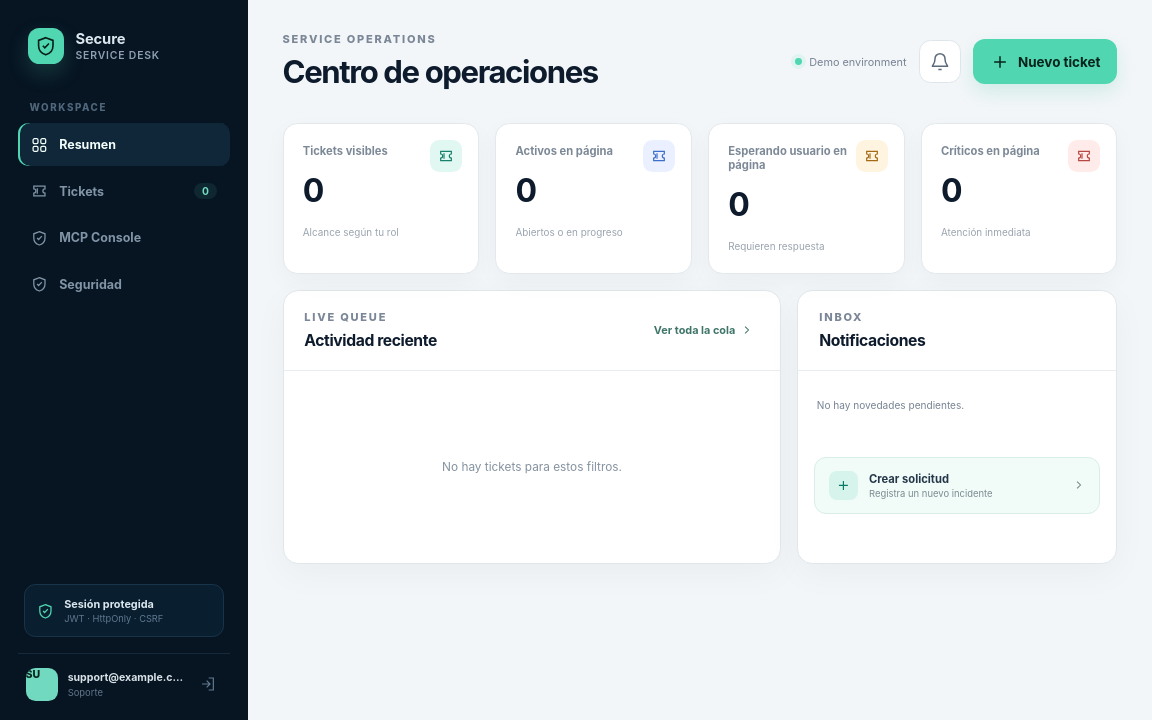
Workspace › creates a ticket and opens only its authorized detail response
Expected: the text "No hay tickets para estos filtros." is shown, left=442, top=460, right=622, bottom=474
Click the button "Nuevo ticket". click: point(1045, 62)
box: left=973, top=39, right=1118, bottom=84
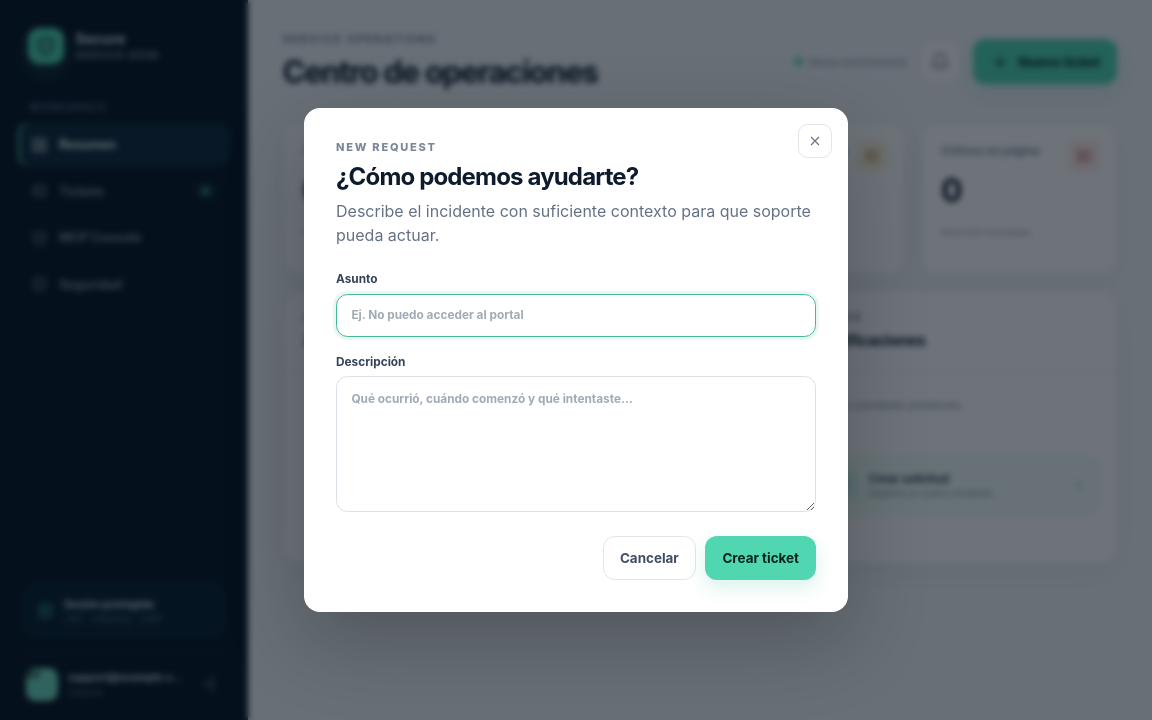
Type "Demo ticket created" into the field labelled "Asunto". click: point(576, 315)
box: left=336, top=294, right=816, bottom=336
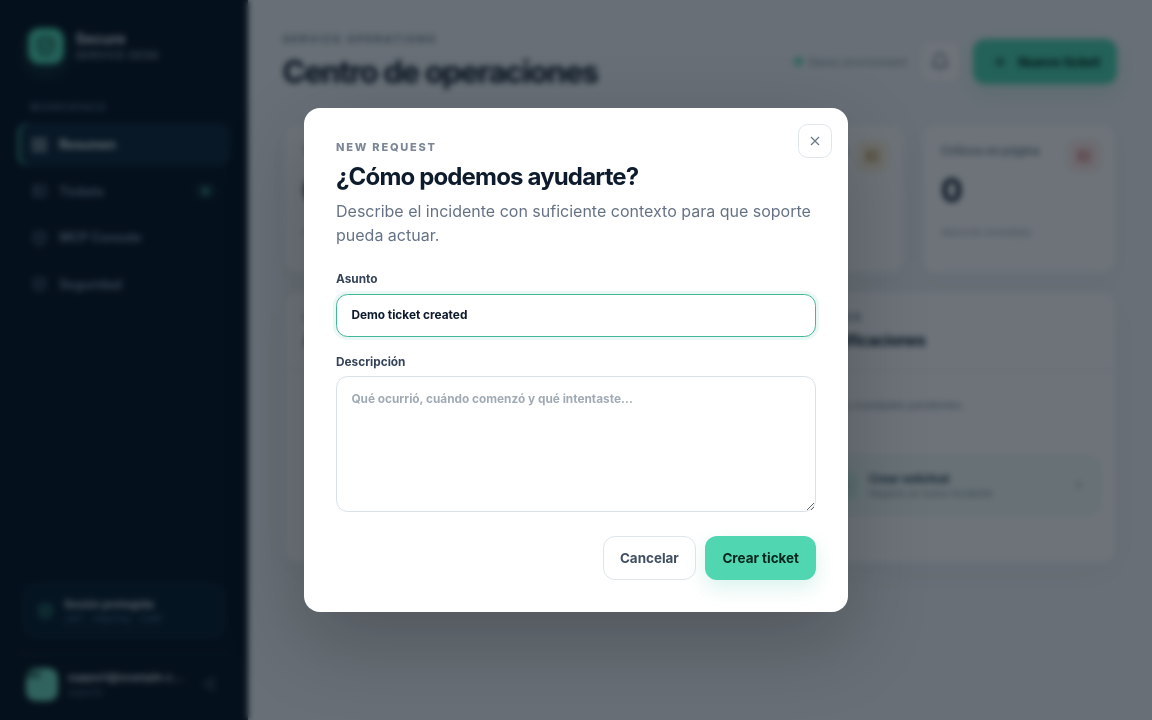
Type "Enough context to validate the visual service desk workflow." into the text box labelled "Descripción". click: point(576, 444)
box: left=336, top=376, right=816, bottom=512
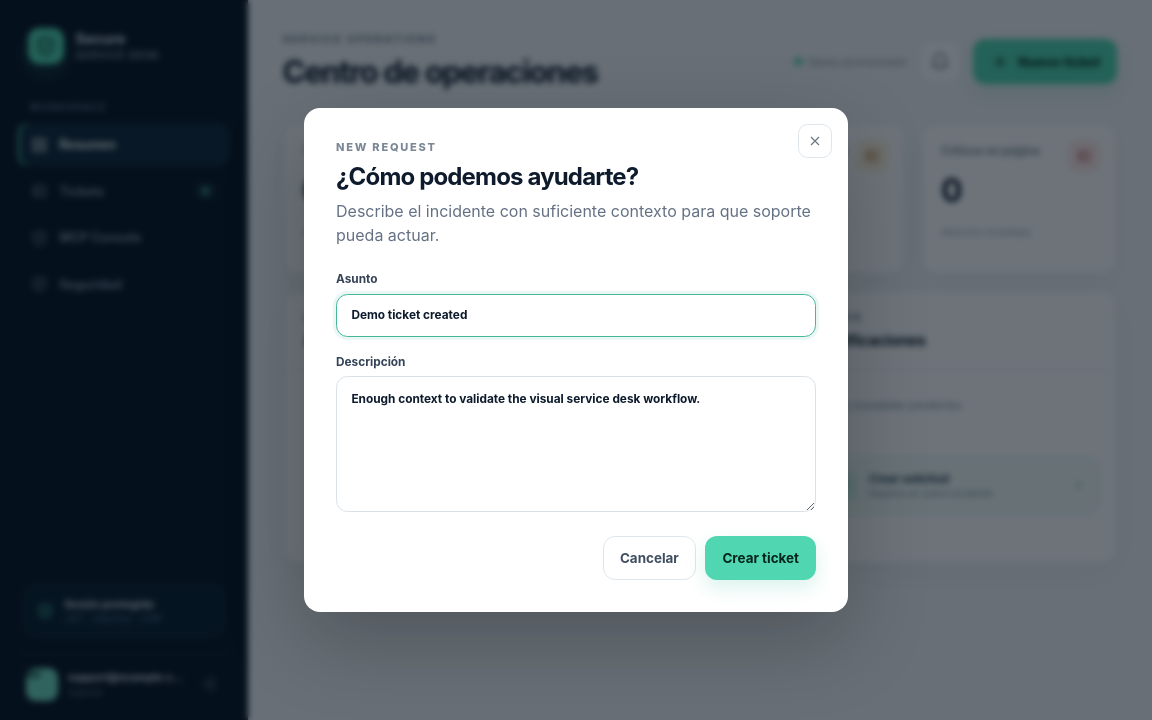
Click the button "Crear ticket". click: point(761, 558)
box: left=705, top=536, right=816, bottom=580
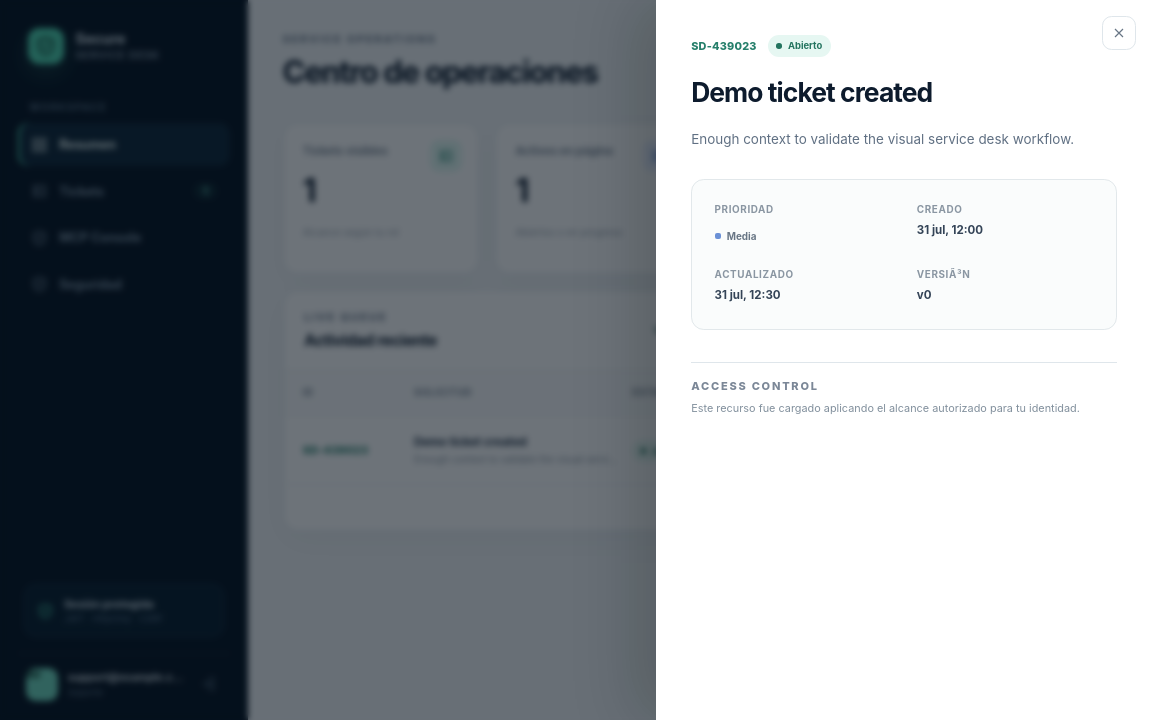
Result: the heading "Demo ticket created" is shown at left=691, top=76, right=932, bottom=108
